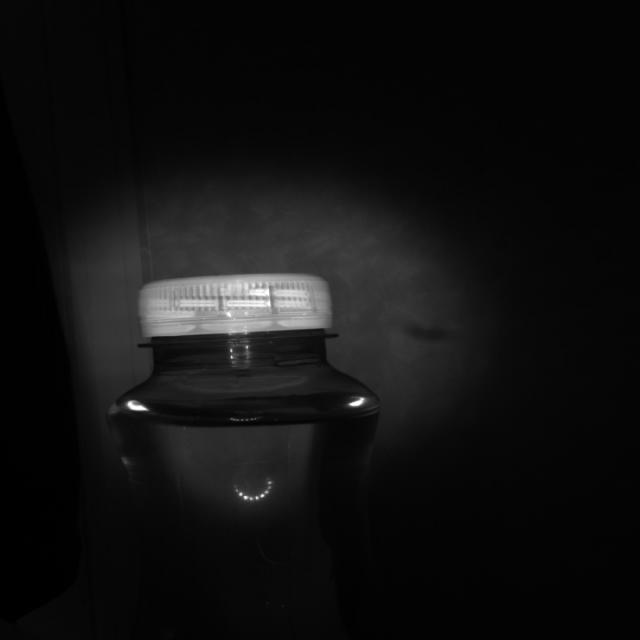Good: (138, 273, 332, 339)
